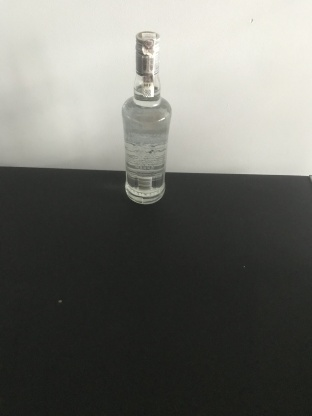nakretka: (133, 29, 162, 76)
